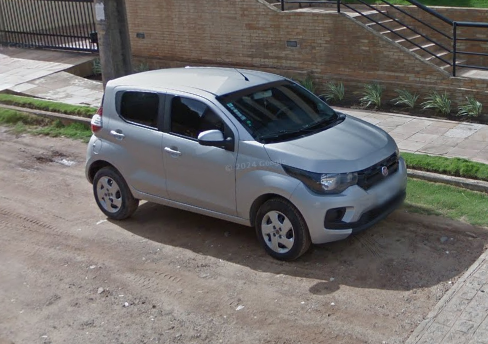car: (82, 63, 410, 263)
